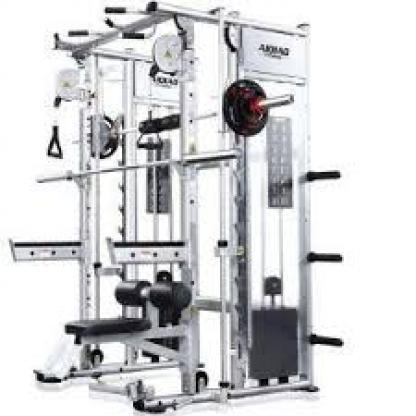smith machine: (11, 5, 342, 412)
